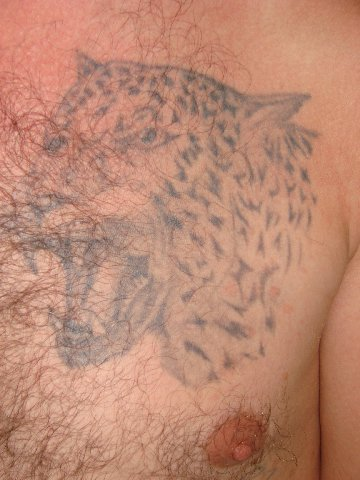tatu5_tigr: (31, 46, 329, 384)
